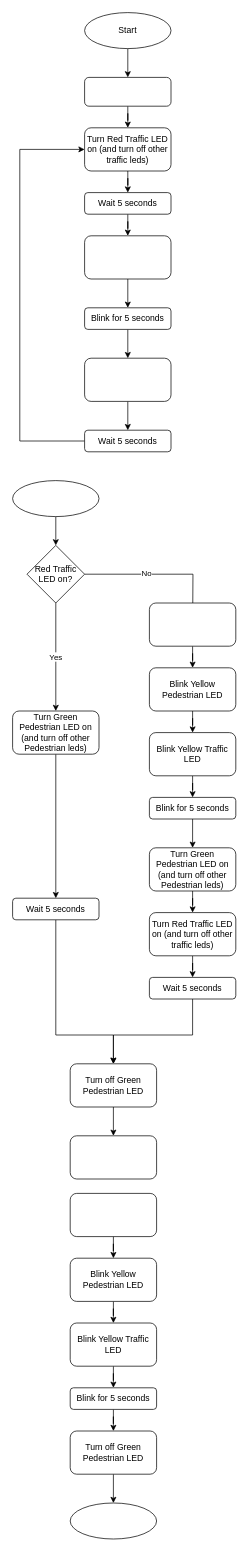
The diagram is 248 pixels wide and 1552 high, and some of its shapes have lost their labels. The box of each missing label's shape, as (x1, y1, x2, y2) in pixels:
Blink Yellow Traffic LED on (and turn off other traffic leds): (84, 235, 171, 279)
End Routine: (69, 1502, 157, 1539)
Initialize peripherials and GPIOs: (84, 77, 171, 106)
Interreupt Routine (SWITCH): (12, 480, 99, 517)
Turn Green Traffic LED on (and turn off other traffic leds): (84, 357, 171, 401)
Turn on Green Traffic LED: (69, 1193, 157, 1237)
Turn on Red Pedestrian LED: (69, 1135, 157, 1179)
Turn Red Pedestrian LED on (and turn off other Pedestrian leds): (149, 602, 236, 646)
